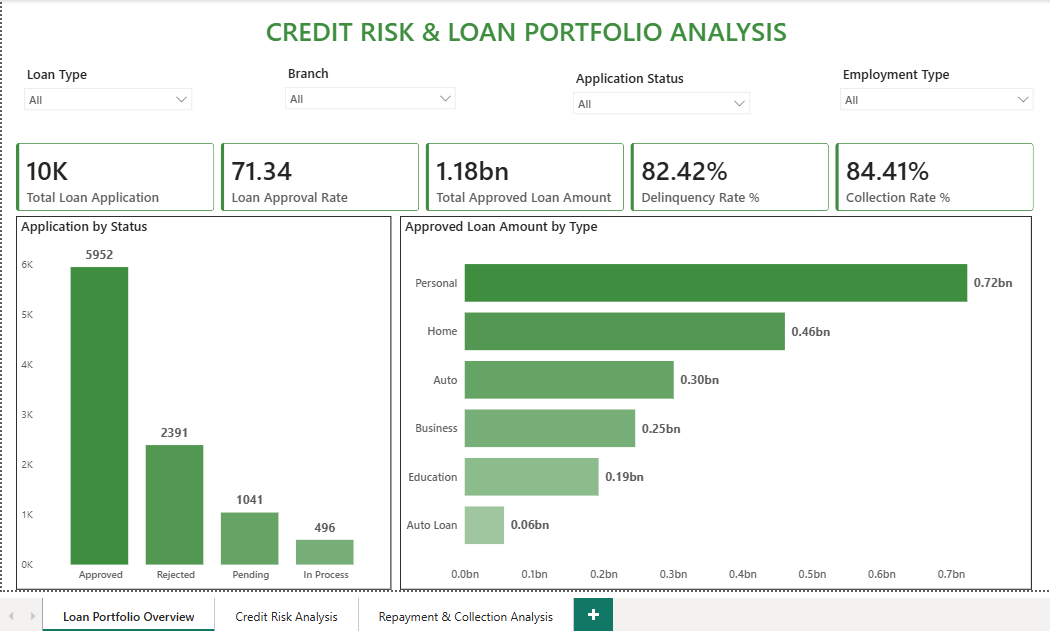

The page's visual inventory and layout, read from the dashboard file:
{"tool":"powerbi","page":{"name":"Loan Portfolio Overview","canvas":[1280,720],"ordinal":0},"visuals":[{"type":"textbox","box":[0,9.3,1280,64],"z":0},{"type":"slicer","fields":{"Values":["Cleaned Loan Application.Loan_Type"]},"box":[17.1,74.4,224.5,83],"z":1},{"type":"slicer","fields":{"Values":["Cleaned Loan Application.Branch"]},"box":[335.6,73.2,228.2,83],"z":2},{"type":"slicer","fields":{"Values":["Cleaned Loan Application.Application_Status"]},"box":[687.1,79.3,235.5,75.7],"z":3},{"type":"slicer","fields":{"Values":["Cleaned Loan Application.Employment_Type"]},"box":[1013.3,74.7,256,82.7],"z":4},{"type":"cardVisual","fields":{"Data":["Cleaned Loan Application.Total Loan Application","Cleaned Loan Application.Loan Approval Rate","Cleaned Loan Application.Total Approved Loan Amount","Cleaned Loan Repayment.Delinquency Rate %","Cleaned Loan Repayment.Collection Rate %"]},"box":[0,157.4,1280.1,117.2],"z":5},{"type":"clusteredColumnChart","title":"Application by Status","fields":{"Category":["Cleaned Loan Application.Application_Status"],"Y":["CountNonNull(Cleaned Loan Application.Application_ID)"]},"box":[17.1,263.6,457.6,456.4],"z":6},{"type":"barChart","title":"Approved Loan Amount by Type","fields":{"Category":["Cleaned Loan Application.Loan_Type"],"Y":["Sum(Cleaned Loan Application.Loan_Amount_INR)"]},"box":[485.7,263.6,771.3,456.4],"z":7}]}

Visuals, with their boxes on the page's 1280x720 design canvas (x1, y1, x2, y2). These are canvas units, not pixel positions in the 1050x631 screenshot, which may show the page scaled, cropped or inside an application window:
textbox: region(0, 9, 1280, 73)
slicer - Cleaned Loan Application.Loan_Type: region(17, 74, 242, 157)
slicer - Cleaned Loan Application.Branch: region(336, 73, 564, 156)
slicer - Cleaned Loan Application.Application_Status: region(687, 79, 923, 155)
slicer - Cleaned Loan Application.Employment_Type: region(1013, 75, 1269, 157)
cardVisual - Cleaned Loan Application.Total Loan Application x Cleaned Loan Application.Loan Approval Rate: region(0, 157, 1280, 275)
"Application by Status" clusteredColumnChart: region(17, 264, 475, 720)
"Approved Loan Amount by Type" barChart: region(486, 264, 1257, 720)
